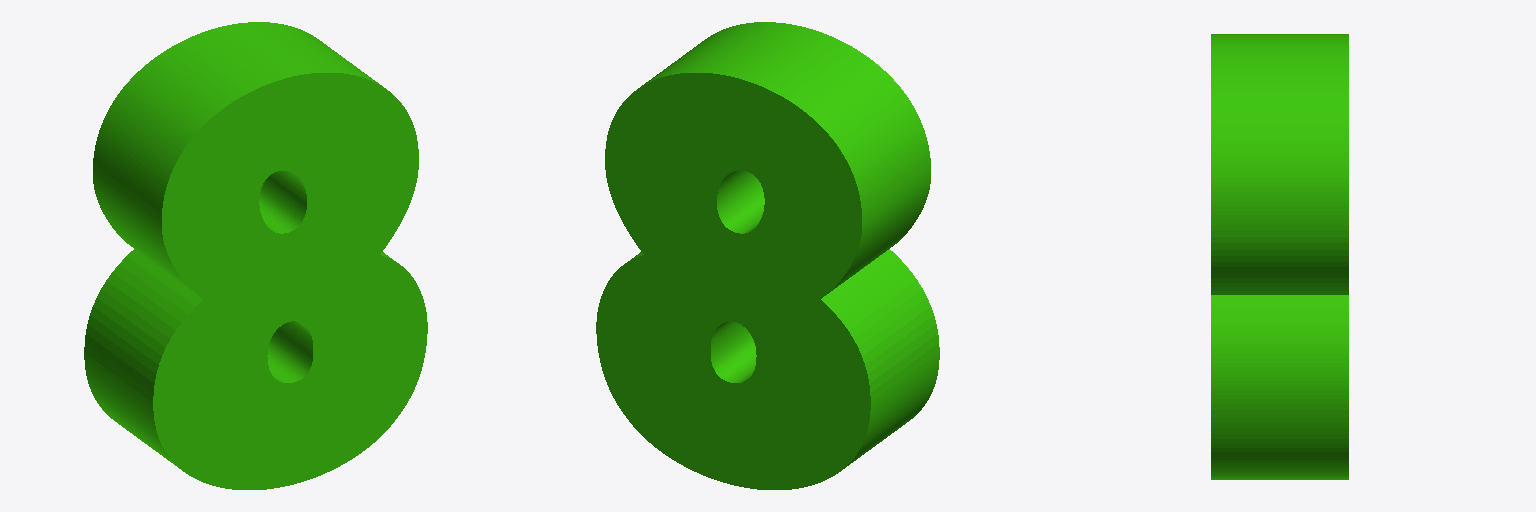
The model's file is Number8.obj.
3 renders of one model, left to right at view 1: azimuth 30°, elevation 25°; view 2: azimuth 150°, elevation 25°; view 3: azimuth 270°, elevation 25°, orthographic.
Parts seen in each view (by area): view 1: Text; view 2: Text; view 3: Text.
Part boxes in pixels (x1,y1,x2,y2): Text: (84,22,427,489); Text: (596,22,939,489); Text: (1211,34,1348,479).
Bounding box in the file's own units: 0.4135 × 0.5877 × 0.18.